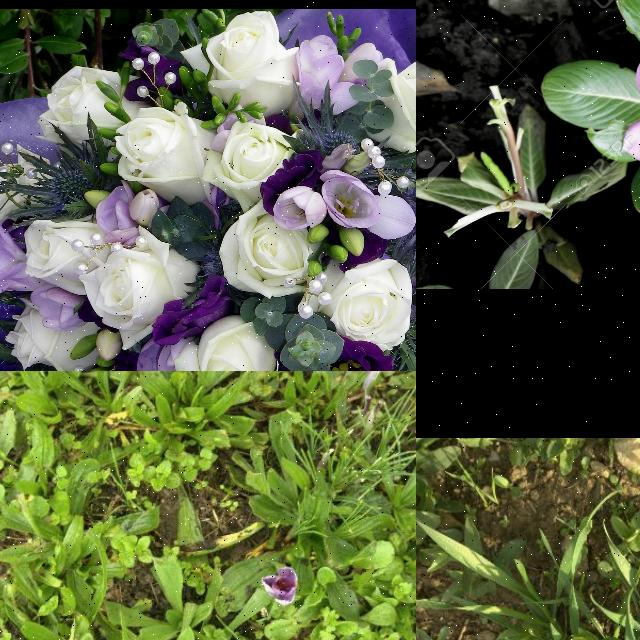flower: (260, 566, 298, 606)
